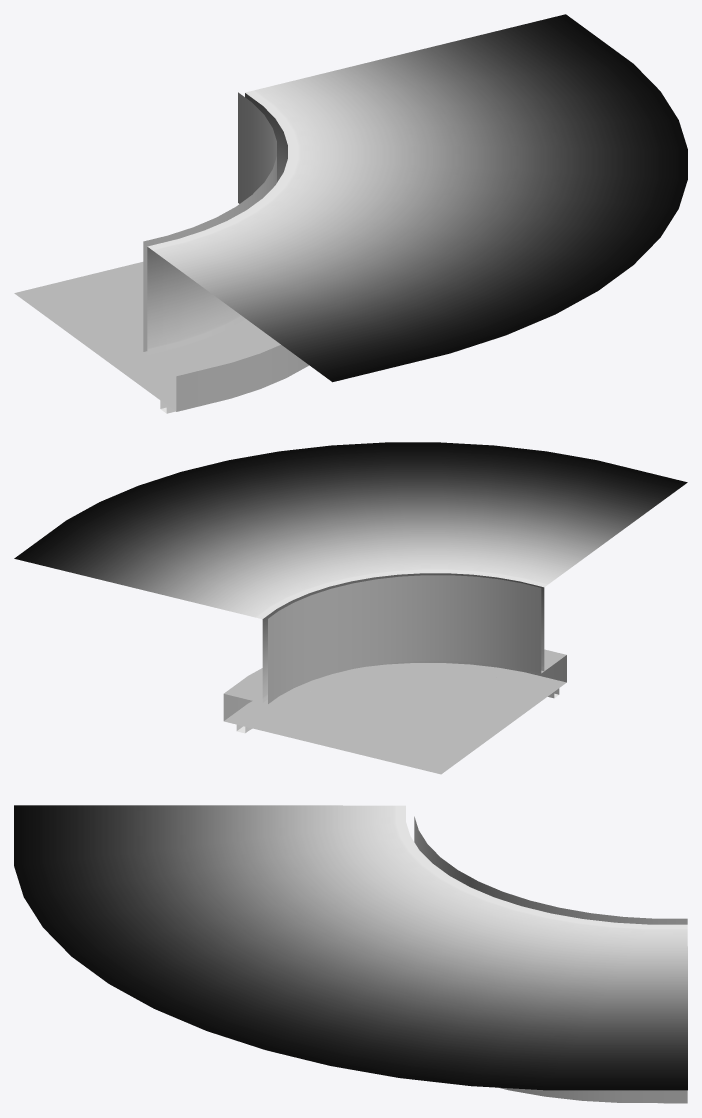
Rendered from Ceiling02_Angle1.FBX.
The picture shows the model from 3 angles, top to bottom: view 1: azimuth 30°, elevation 25°; view 2: azimuth 150°, elevation 25°; view 3: azimuth 270°, elevation 25°; orthographic projection. The views are drawn at different scales.
Visible parts, largest first — view 1: Backlight, Ceiling; view 2: Backlight, Ceiling; view 3: Backlight, Ceiling.
Boxes of the visible parts, x1,y1,x2,y2 form: Backlight: (147, 14, 687, 382); Ceiling: (14, 92, 309, 411); Backlight: (14, 442, 687, 702); Ceiling: (223, 575, 566, 774); Backlight: (14, 805, 687, 1090); Ceiling: (414, 816, 687, 1102).
Size of the model in its own units: 98.69 by 26.5 by 98.69.
